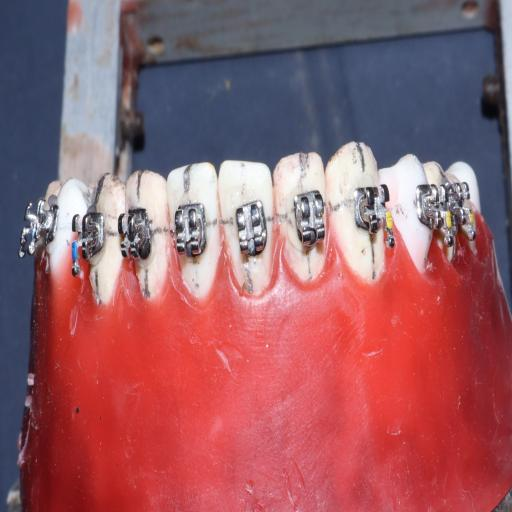correct_brace: (170, 200, 209, 258)
incorrect_brace: (230, 198, 269, 268)
